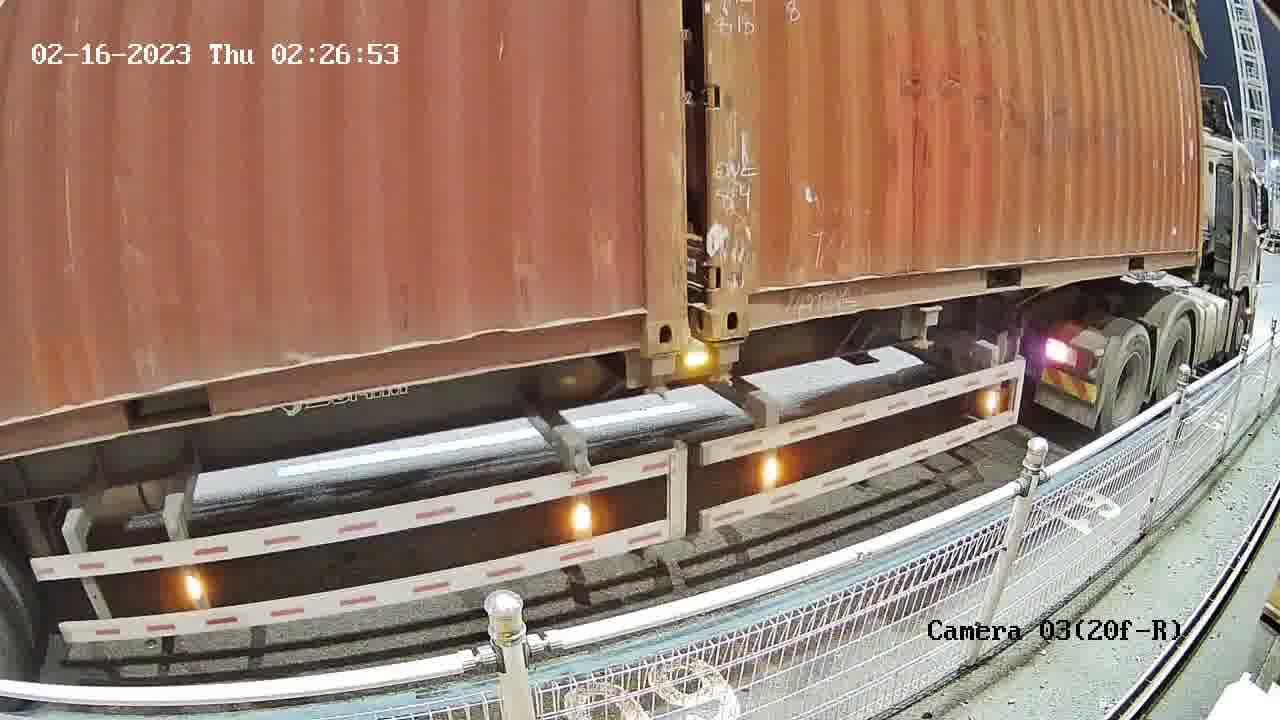Cone: (637, 353, 681, 400), (706, 338, 744, 392)
Hole_L: (713, 254, 785, 339)
Hole_R: (595, 279, 688, 351), (689, 259, 714, 343)
Tire: (1101, 329, 1152, 430), (1158, 318, 1194, 393)
